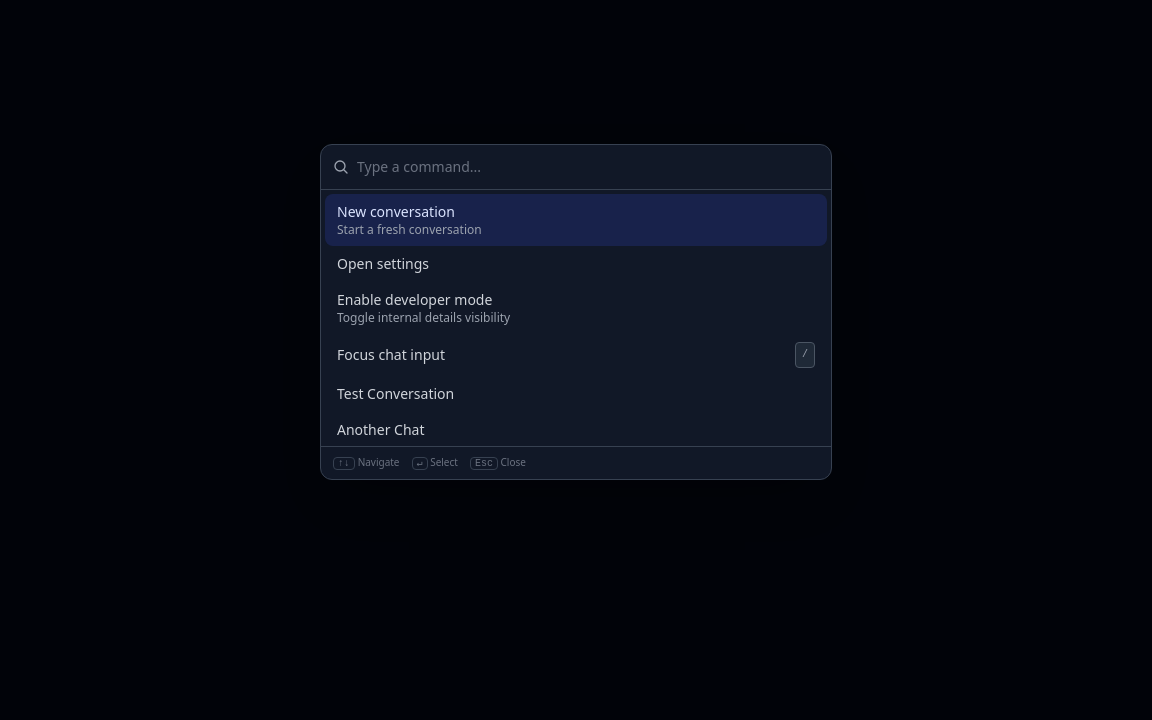
CommandPalette › search filtering › should filter commands by search query
Type "settings" into the dropdown with placeholder "Type a command..." at point(588, 167), box [357, 157, 819, 177]
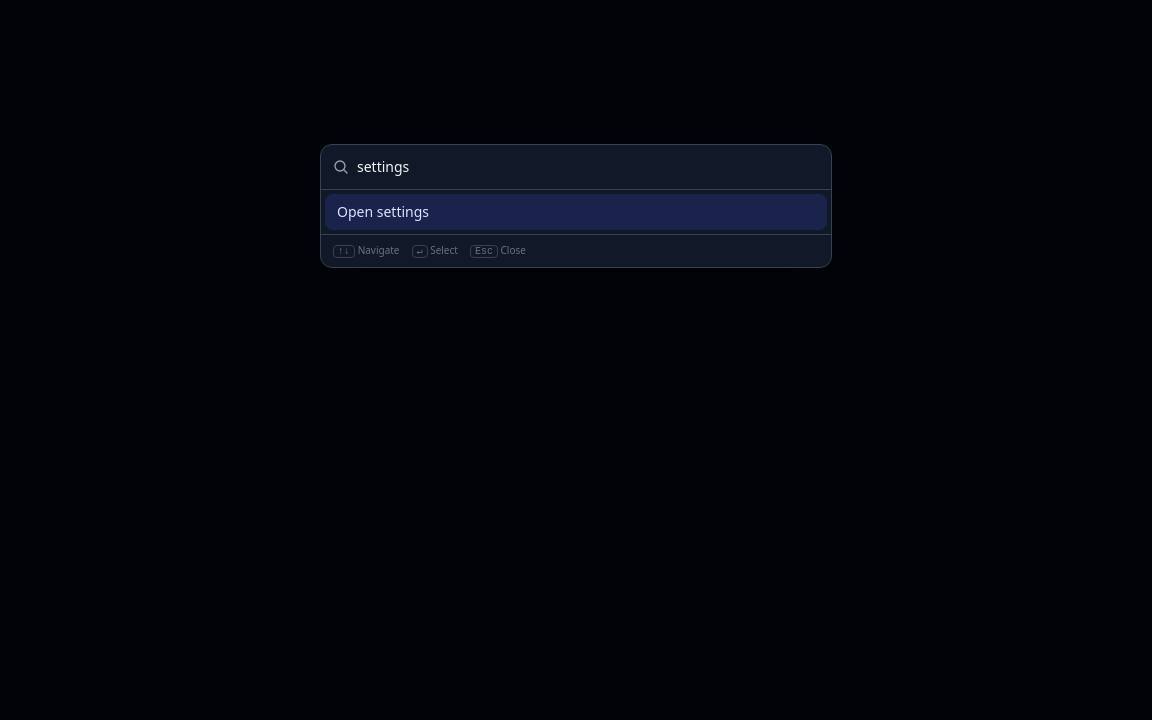
Expected: the text "Open settings" is shown, [337, 202, 429, 221]
Expected: the option "New conversation" is gone
